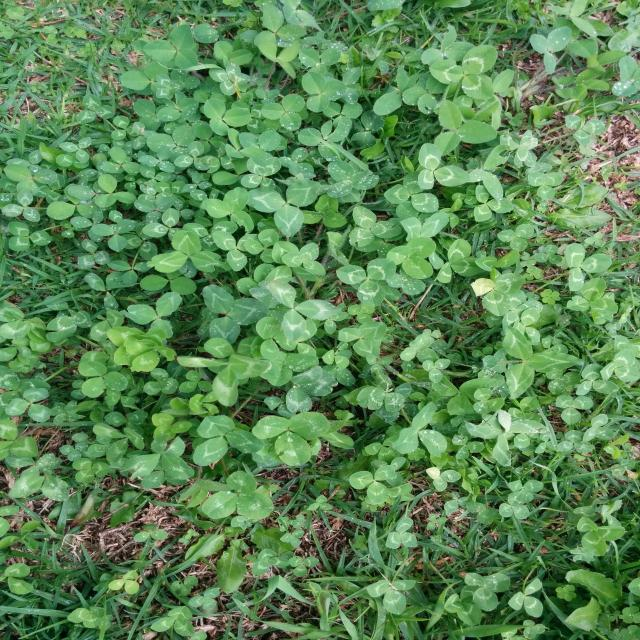Four Leaf Clover: (241, 157, 281, 193), (208, 63, 250, 96)
